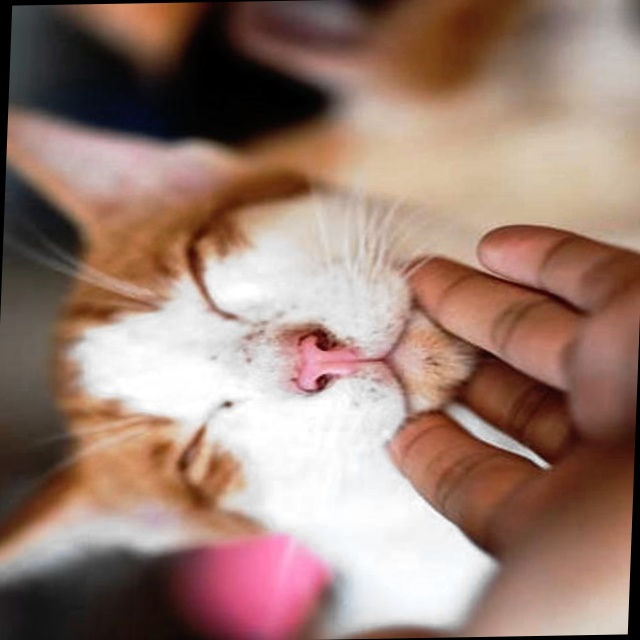acne: (200, 301, 294, 368)
